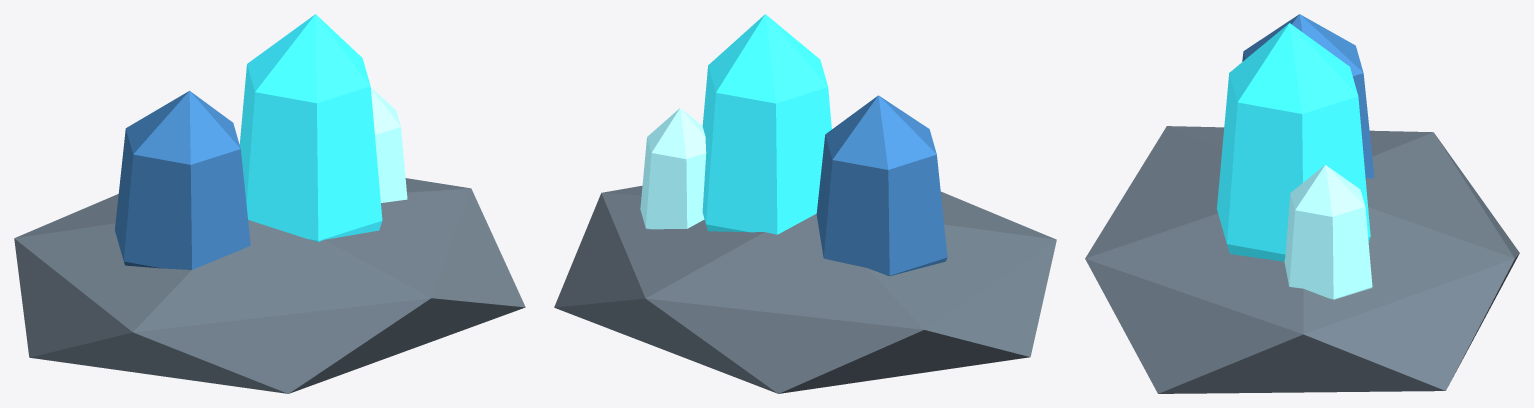
Rendered from Crystal_Damaged.fbx.
3 views of the same model, side by side, from view 1: azimuth 30°, elevation 25°; view 2: azimuth 150°, elevation 25°; view 3: azimuth 270°, elevation 25° (orthographic). The views are drawn at different scales.
Visible parts, largest first — view 1: Dark mineral base.001, Faceted crystal shard 01.001, Faceted crystal shard 00.001, Faceted crystal shard 02.001; view 2: Dark mineral base.001, Faceted crystal shard 01.001, Faceted crystal shard 00.001, Faceted crystal shard 02.001; view 3: Dark mineral base.001, Faceted crystal shard 01.001, Faceted crystal shard 02.001, Faceted crystal shard 00.001.
Boxes of the visible parts, box(x1,y1,x2,y2) form: Dark mineral base.001: box(14, 178, 525, 393); Faceted crystal shard 01.001: box(239, 14, 382, 242); Faceted crystal shard 00.001: box(115, 90, 250, 269); Faceted crystal shard 02.001: box(370, 87, 407, 202); Dark mineral base.001: box(554, 185, 1056, 393); Faceted crystal shard 01.001: box(702, 14, 831, 234); Faceted crystal shard 00.001: box(816, 95, 947, 276); Faceted crystal shard 02.001: box(640, 108, 706, 229); Dark mineral base.001: box(1085, 126, 1519, 393); Faceted crystal shard 01.001: box(1217, 23, 1370, 261); Faceted crystal shard 02.001: box(1284, 165, 1372, 299); Faceted crystal shard 00.001: box(1242, 14, 1374, 178).
Size of the model in its own units: 548 by 377 by 447.
